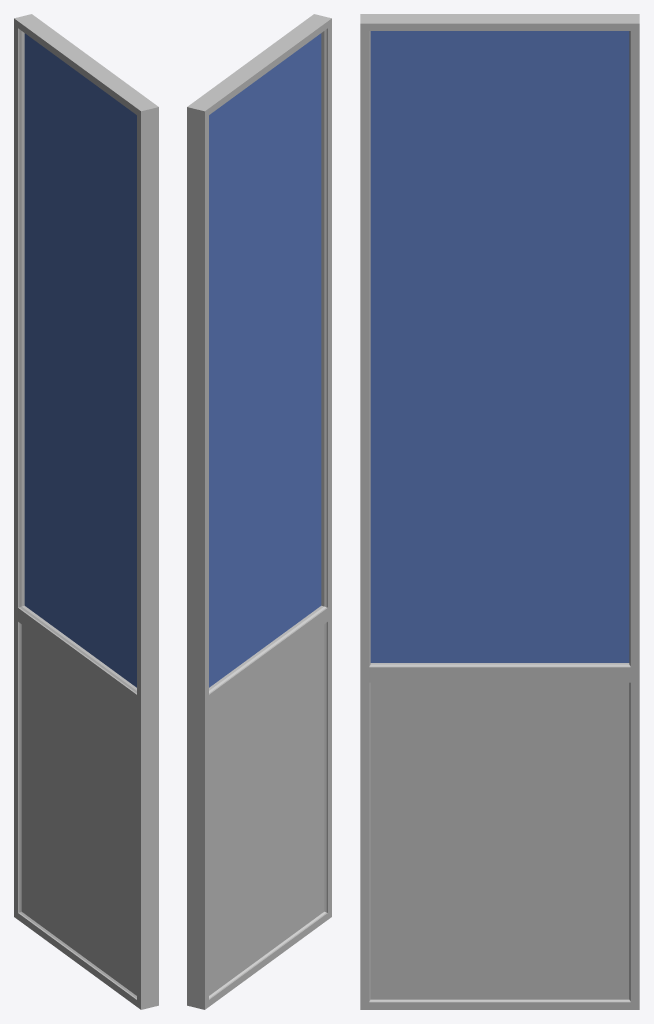
Rendered from door13.fbx.
3 views of the same model, side by side, from view 1: azimuth 30°, elevation 25°; view 2: azimuth 150°, elevation 25°; view 3: azimuth 270°, elevation 25° (orthographic). The views are drawn at different scales.
Parts seen in each view (by area): view 1: Cylinder_2_2_9; view 2: Cylinder_2_2_9; view 3: Cylinder_2_2_9.
Part boxes in pixels (x1,y1,x2,y2): Cylinder_2_2_9: (14,14,158,1009); Cylinder_2_2_9: (187,14,331,1009); Cylinder_2_2_9: (360,14,639,1009).
Size of the model in its own units: 4.58 by 220 by 56.48.
